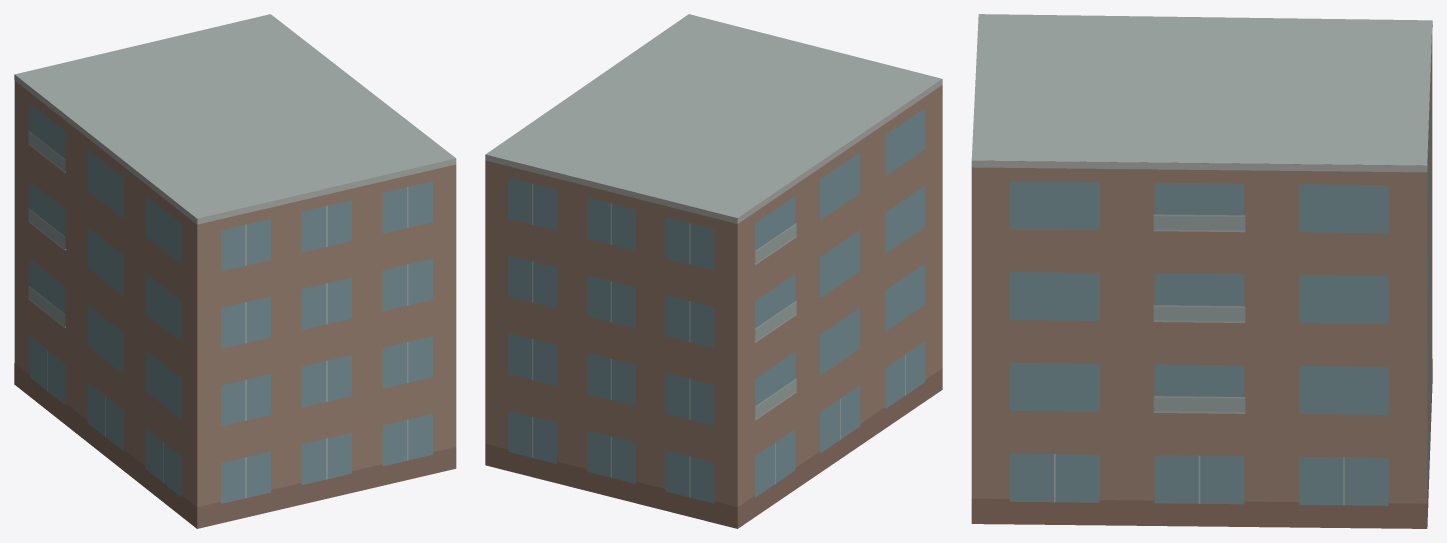
File: survey-upis-32699788.glb
The picture shows the model from 3 angles, left to right: view 1: azimuth 30°, elevation 25°; view 2: azimuth 150°, elevation 25°; view 3: azimuth 270°, elevation 25°; orthographic projection. The views are drawn at different scales.
Visible parts, largest first — view 1: survey-upis-32699788.tmp; view 2: survey-upis-32699788.tmp; view 3: survey-upis-32699788.tmp.
Boxes of the visible parts, left/top/right/bottom form: survey-upis-32699788.tmp: left=14, top=14, right=456, bottom=528; survey-upis-32699788.tmp: left=485, top=14, right=942, bottom=528; survey-upis-32699788.tmp: left=971, top=14, right=1432, bottom=528.
Size of the model in its own units: 11.45 by 12.8 by 14.72.
